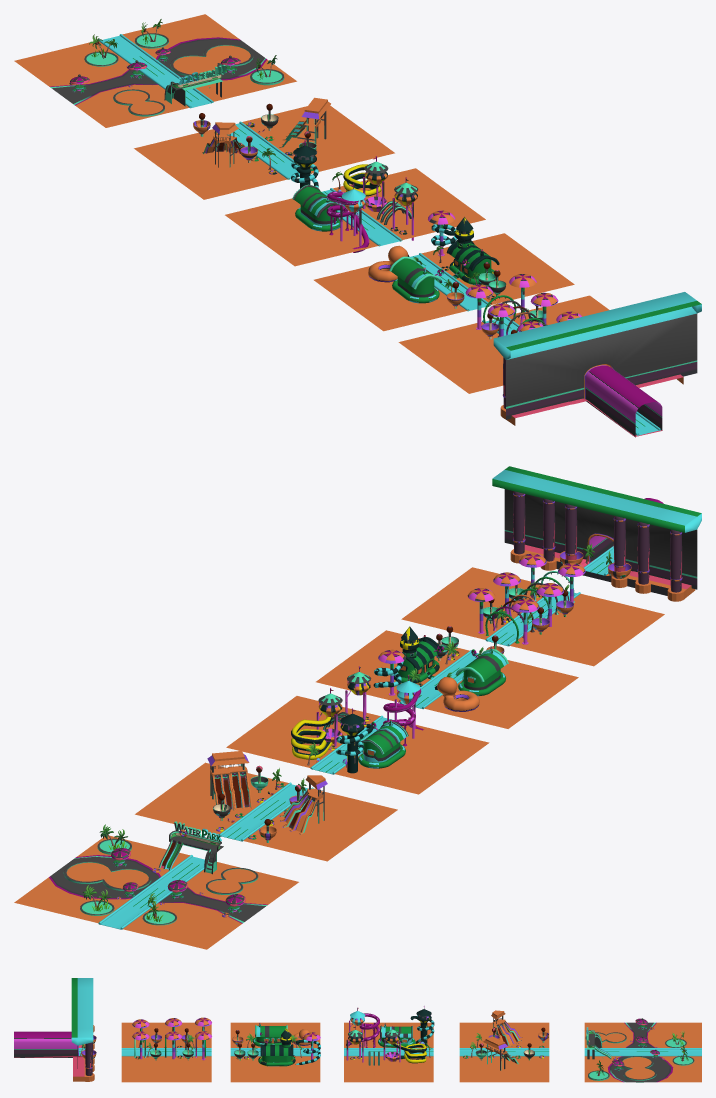
Rendered from waterparkNew.fbx.
The picture shows the model from 3 angles, top to bottom: view 1: azimuth 30°, elevation 25°; view 2: azimuth 150°, elevation 25°; view 3: azimuth 270°, elevation 25°; orthographic projection. The views are drawn at different scales.
Visible parts, largest first — view 1: gatemesh, water2, park1, water3, water, water4, park3, park4, waterp5, park2, park5, Road_01 (+3 smaller); view 2: gatemesh, park1, waterp5, water2, water3, water, water4, park3, park4, park2, park5, Road_01 (+4 smaller); view 3: water2, gatemesh, waterp5, park1, water, water3, water4, park3, park4, park5, park2, Road_01 (+4 smaller).
Part boxes in pixels (<box>): gatemesh: <box>493,292,701,437</box>; water2: <box>134,105,394,199</box>; park1: <box>49,19,284,116</box>; water3: <box>225,168,485,266</box>; water: <box>14,14,296,127</box>; water4: <box>314,233,574,331</box>; park3: <box>291,140,418,252</box>; park4: <box>368,210,506,308</box>; waterp5: <box>398,295,609,393</box>; park2: <box>193,97,330,174</box>; park5: <box>465,274,581,339</box>; Road_01: <box>98,34,213,108</box>; gatemesh: <box>492,466,701,601</box>; park1: <box>49,821,267,925</box>; waterp5: <box>401,567,664,666</box>; water2: <box>135,762,397,861</box>; water3: <box>226,696,489,794</box>; water: <box>14,835,298,949</box>; water4: <box>316,630,578,728</box>; park3: <box>291,666,423,773</box>; park4: <box>373,626,508,711</box>; park2: <box>207,751,327,842</box>; park5: <box>467,553,585,644</box>; Road_01: <box>98,855,204,929</box>; water2: <box>459,1022,549,1082</box>; gatemesh: <box>14,978,96,1081</box>; waterp5: <box>121,1022,211,1082</box>; park1: <box>585,1018,694,1082</box>; water: <box>584,1022,701,1082</box>; water3: <box>344,1022,433,1082</box>; water4: <box>230,1022,320,1082</box>; park3: <box>346,1006,434,1065</box>; park4: <box>232,1022,320,1066</box>; park5: <box>132,1017,211,1060</box>; park2: <box>463,1010,548,1070</box>; Road_01: <box>584,1048,701,1056</box>.
Size of the model in its own units: 2717 by 1086 by 13096.
